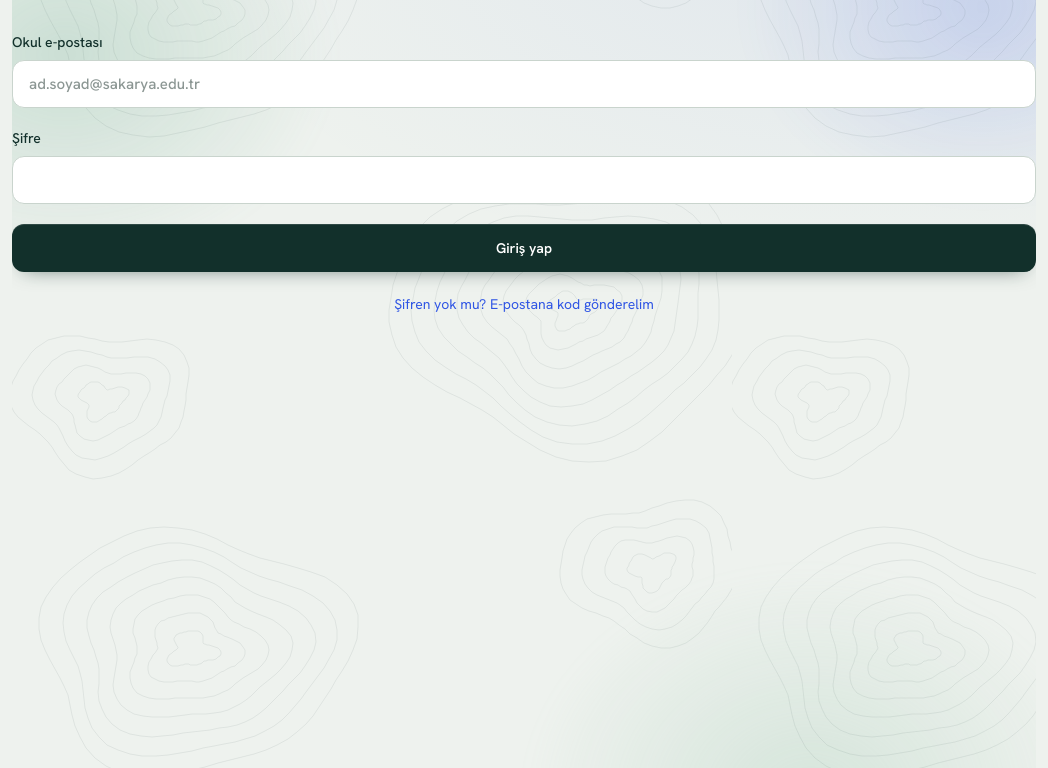
LoginForm password sign in › shows a calm message on wrong credentials
In the field labelled "Okul e-postası": {"x": 524, "y": 84} [12,60,1036,108], type "a@ogr.sakarya.edu.tr"
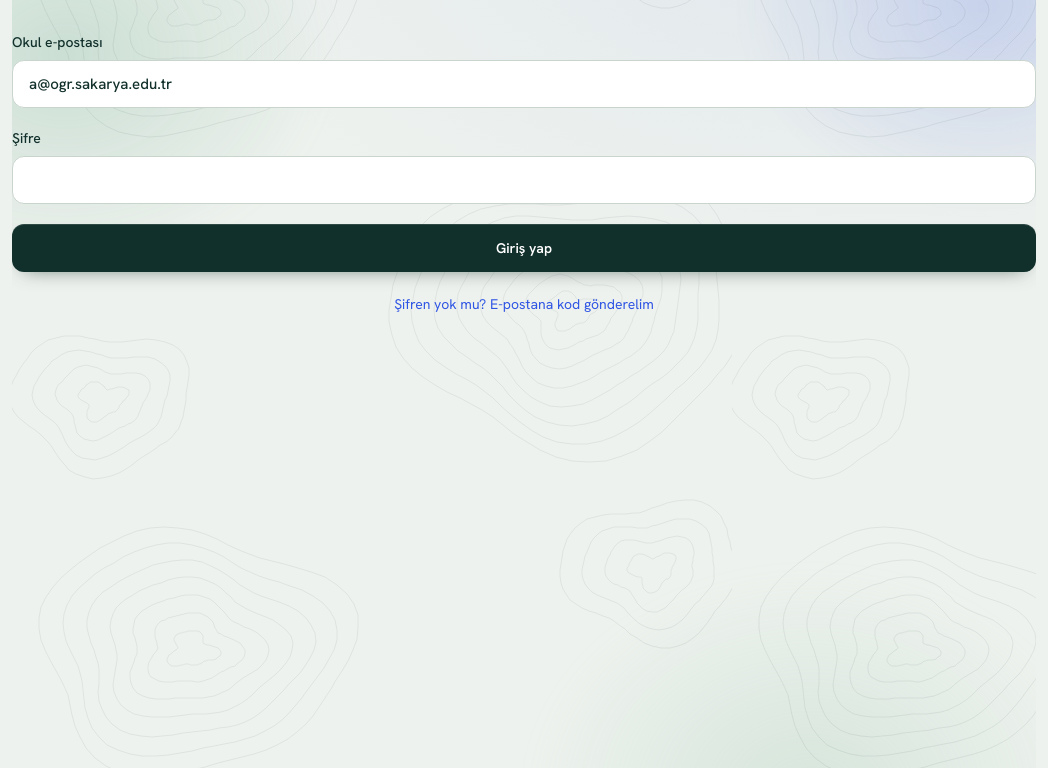
In the password field labelled "Şifre": {"x": 524, "y": 180} [12,156,1036,204], type "yanlis"
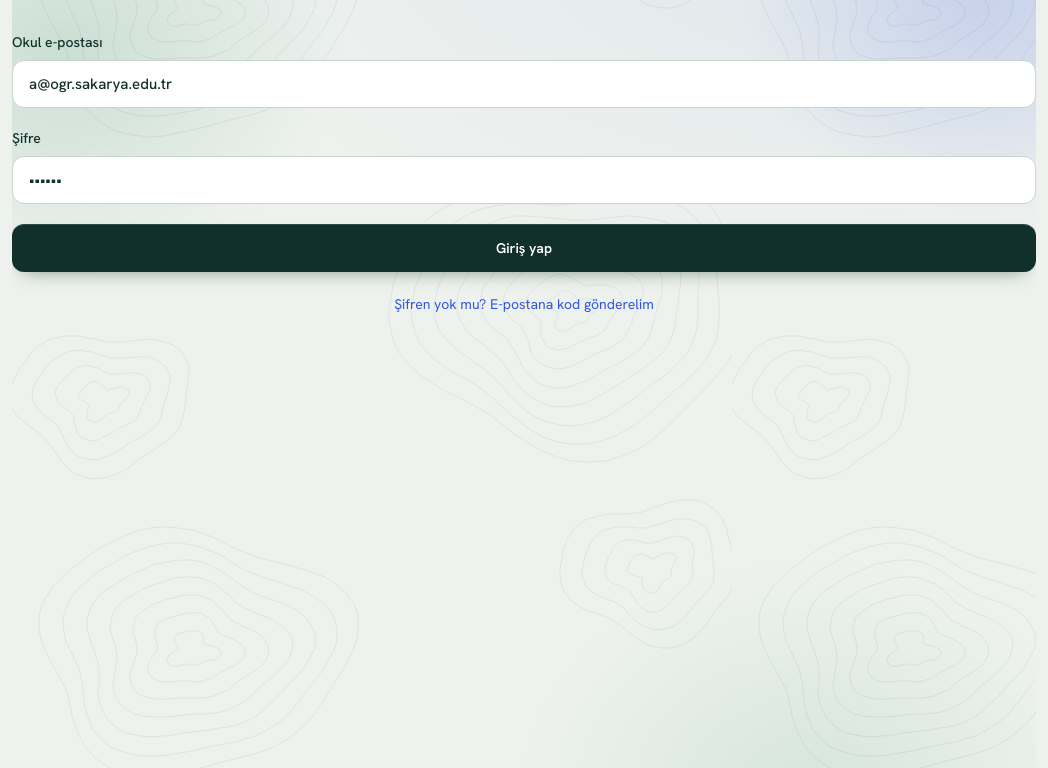
Click the button "Giriş yap": {"x": 524, "y": 248} [12,224,1036,272]
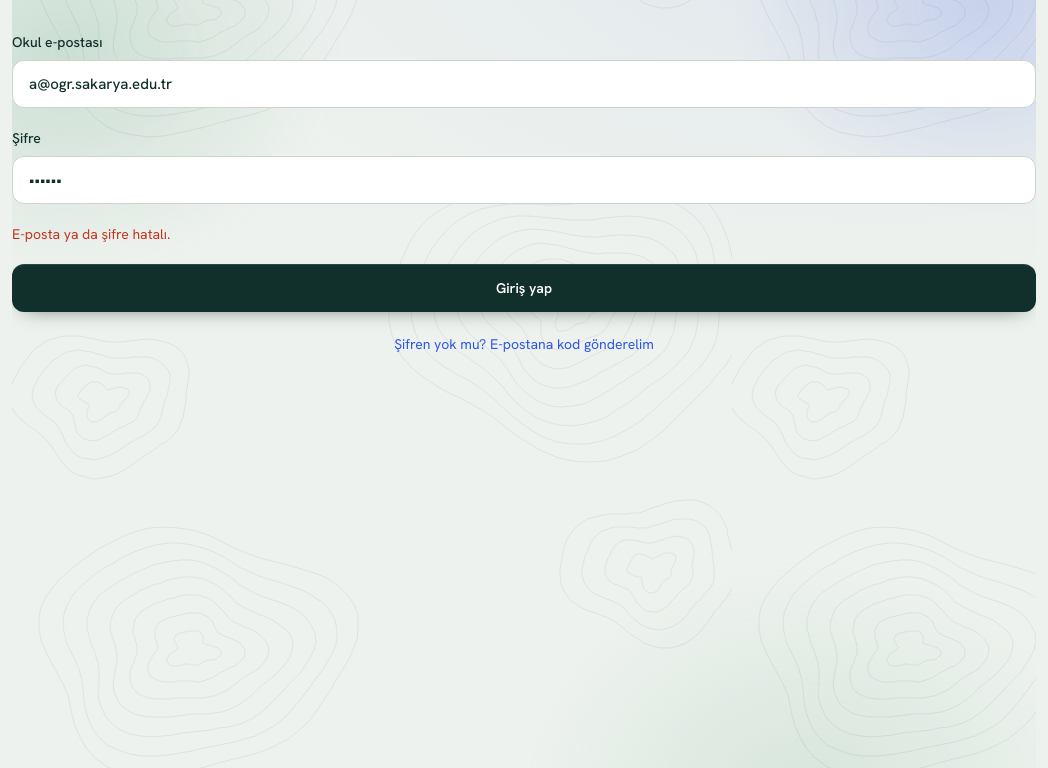
Expected: the text "E-posta ya da şifre hatalı." is shown, [12,225,170,243]
